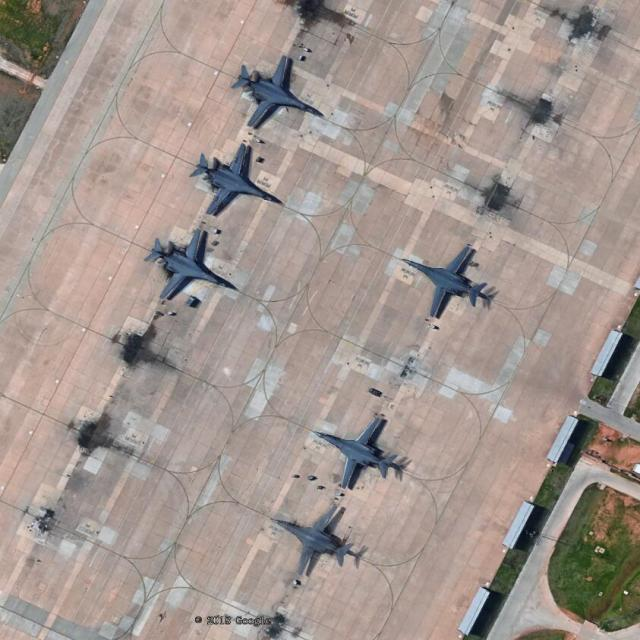fighter jet: (266, 496, 365, 578), (184, 132, 274, 217), (219, 52, 309, 135), (149, 218, 223, 310), (406, 245, 496, 320), (321, 413, 404, 488)
